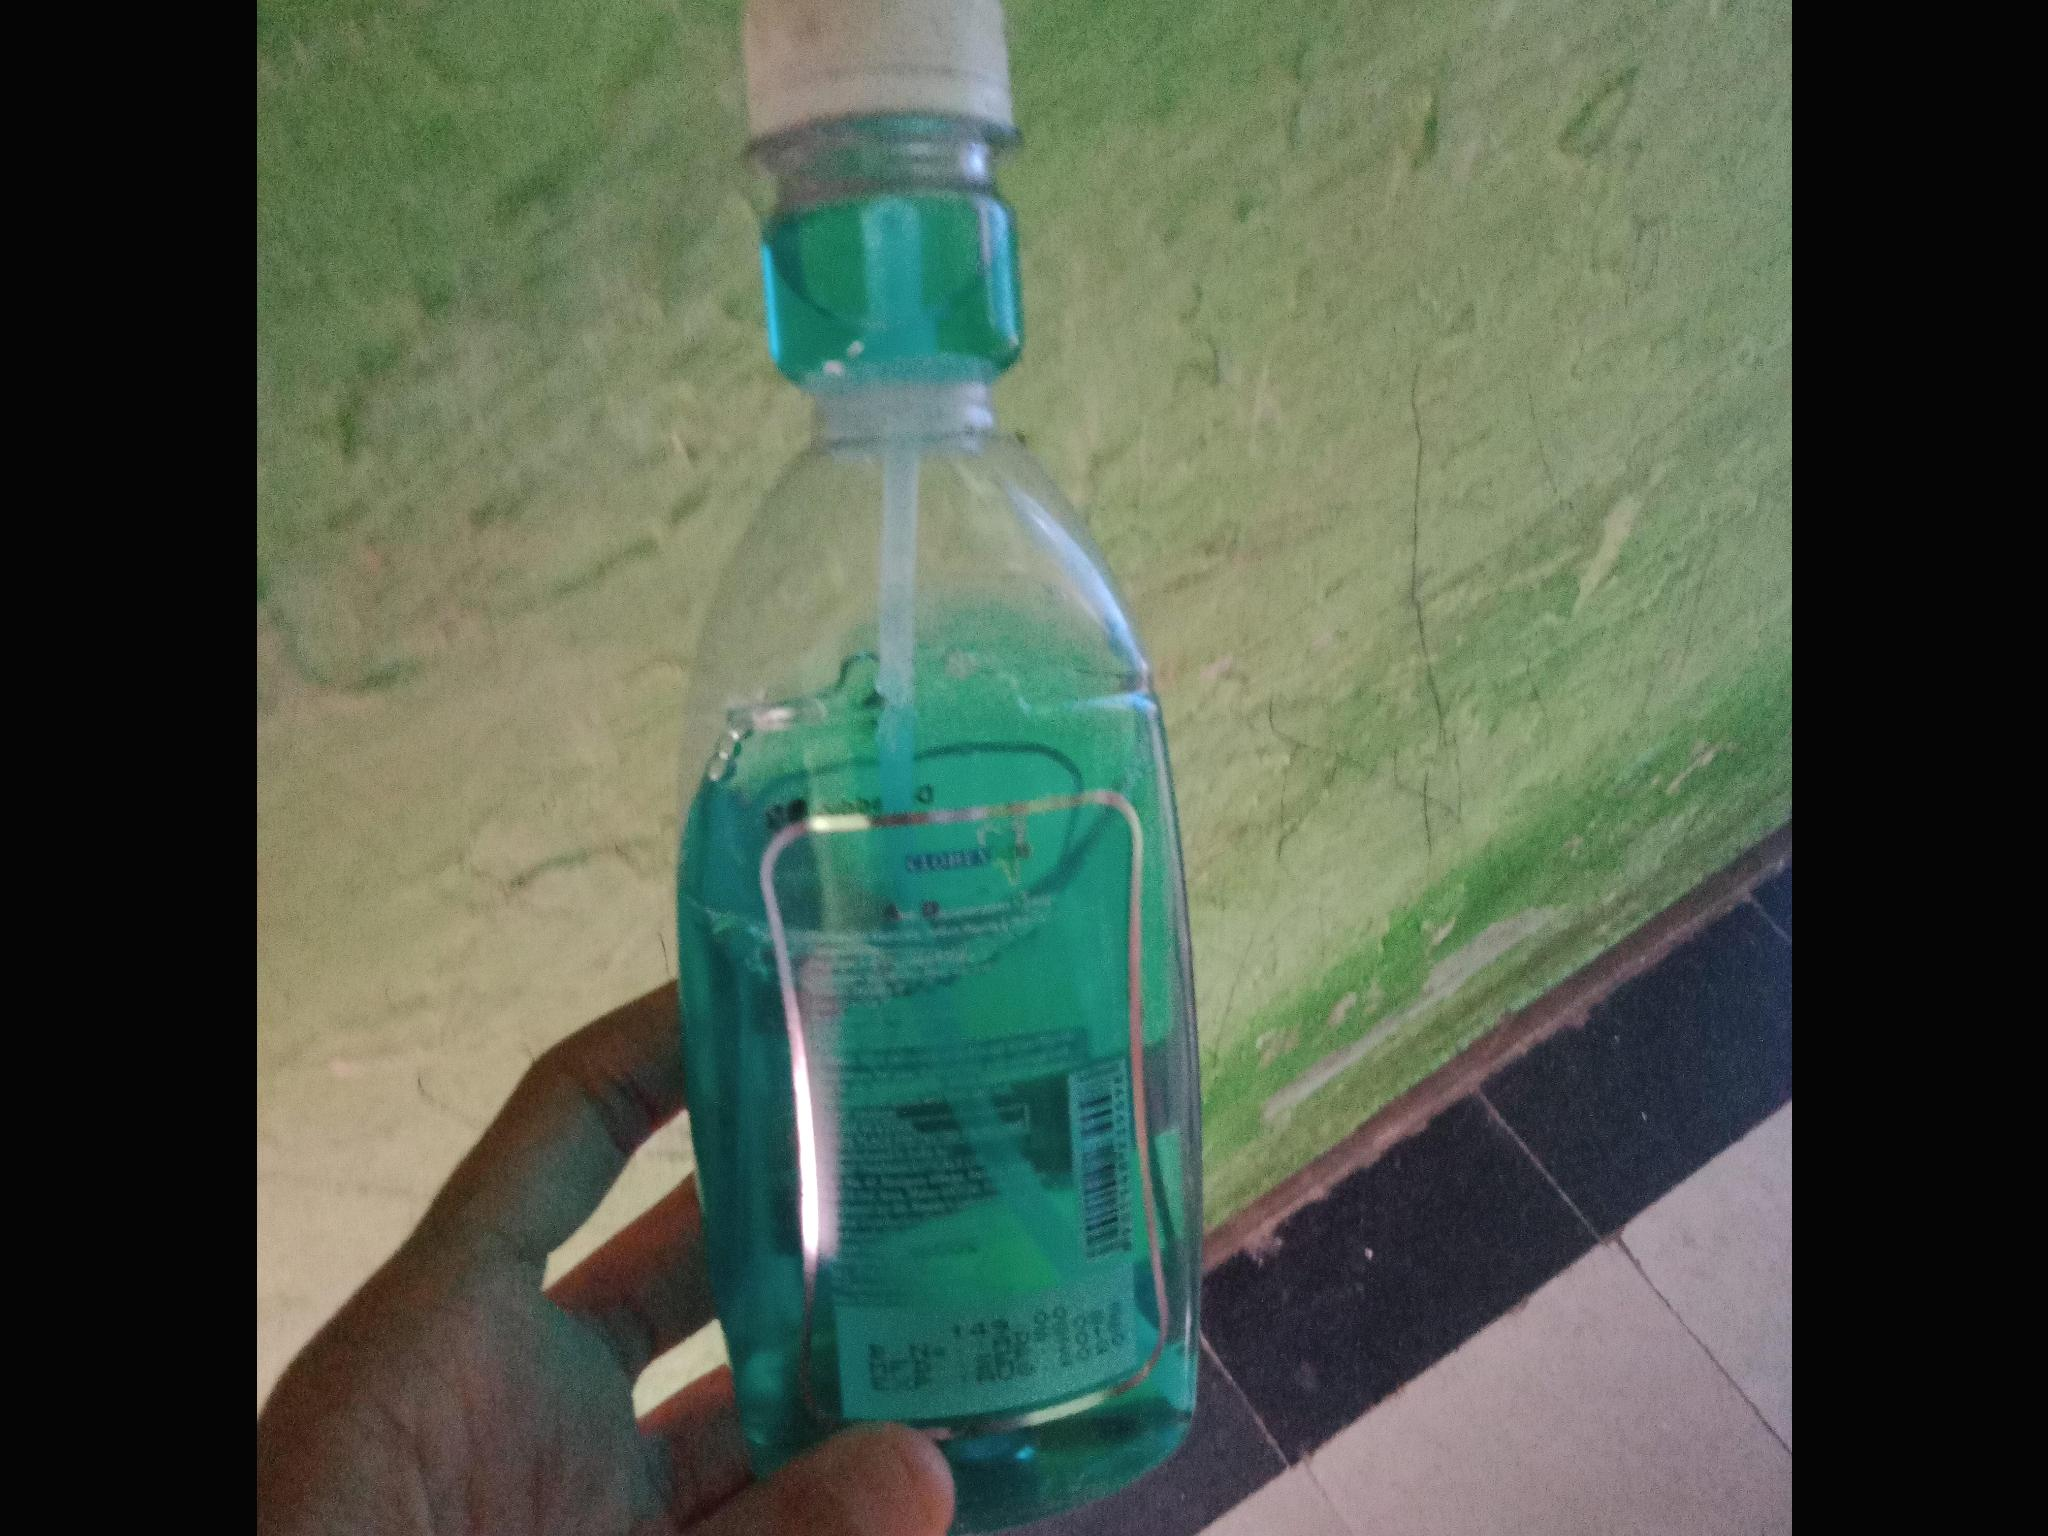bottle: (672, 0, 1229, 1518)
